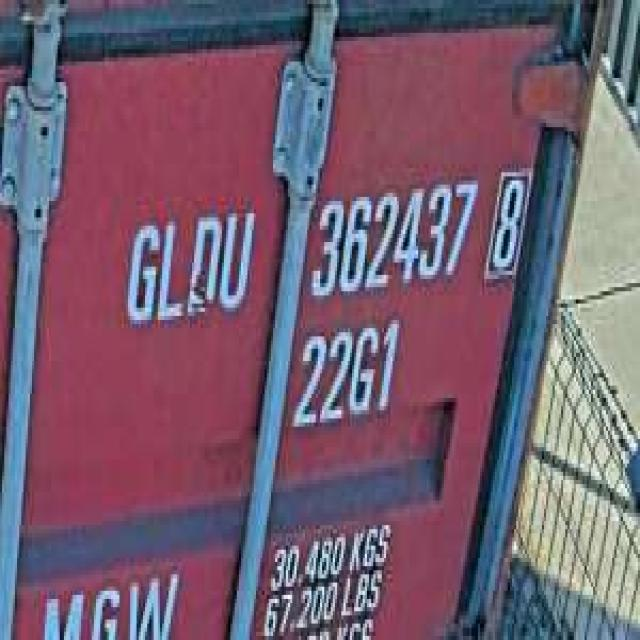dv: (484, 152, 531, 287)
owner: (117, 193, 256, 332)
serial: (305, 172, 480, 304)
size: (290, 316, 405, 435)
